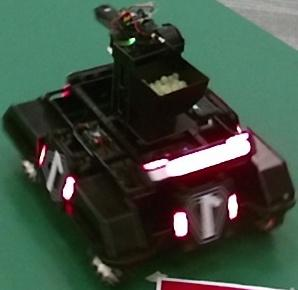armor_1: (175, 194, 239, 237), (40, 145, 76, 199)
back_1: (187, 186, 229, 246)
left_1: (42, 149, 68, 202)
light: (145, 131, 251, 180)
